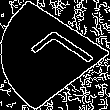L_SE: (14, 26, 96, 84)
